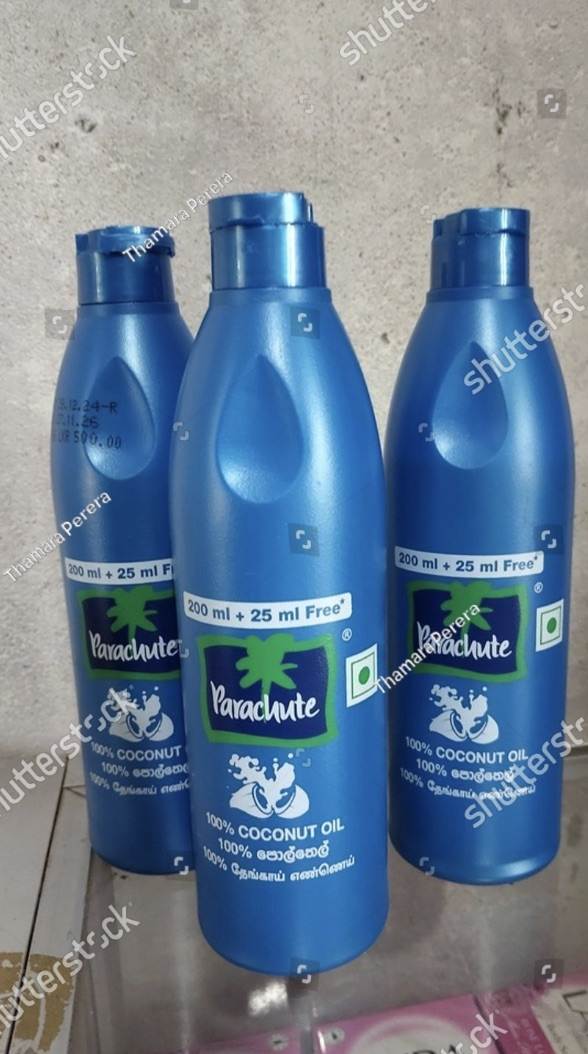parachute: (419, 205, 432, 223), (300, 96, 309, 104), (425, 865, 430, 873)
